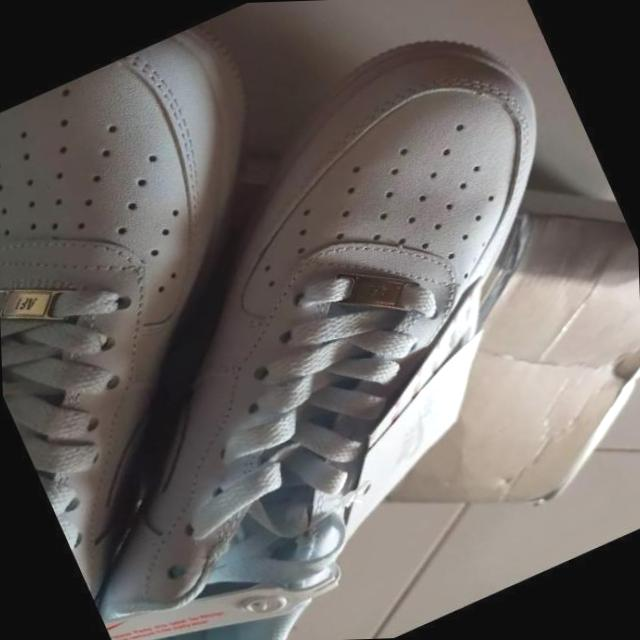nike_fake_airforce: (0, 0, 640, 640), (0, 6, 437, 632)
